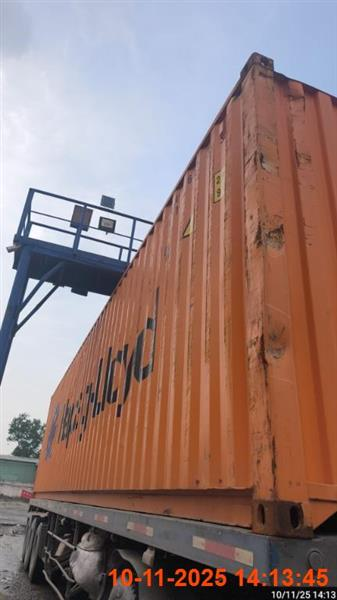bent: (18, 52, 334, 599)
